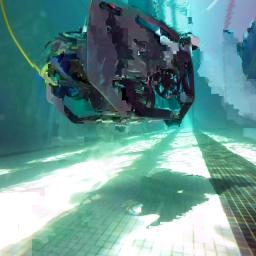Side: (41, 0, 204, 126)
